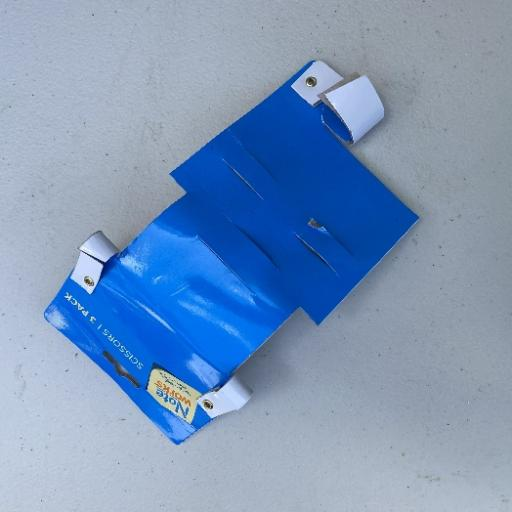Cardboard: (42, 58, 421, 446)
